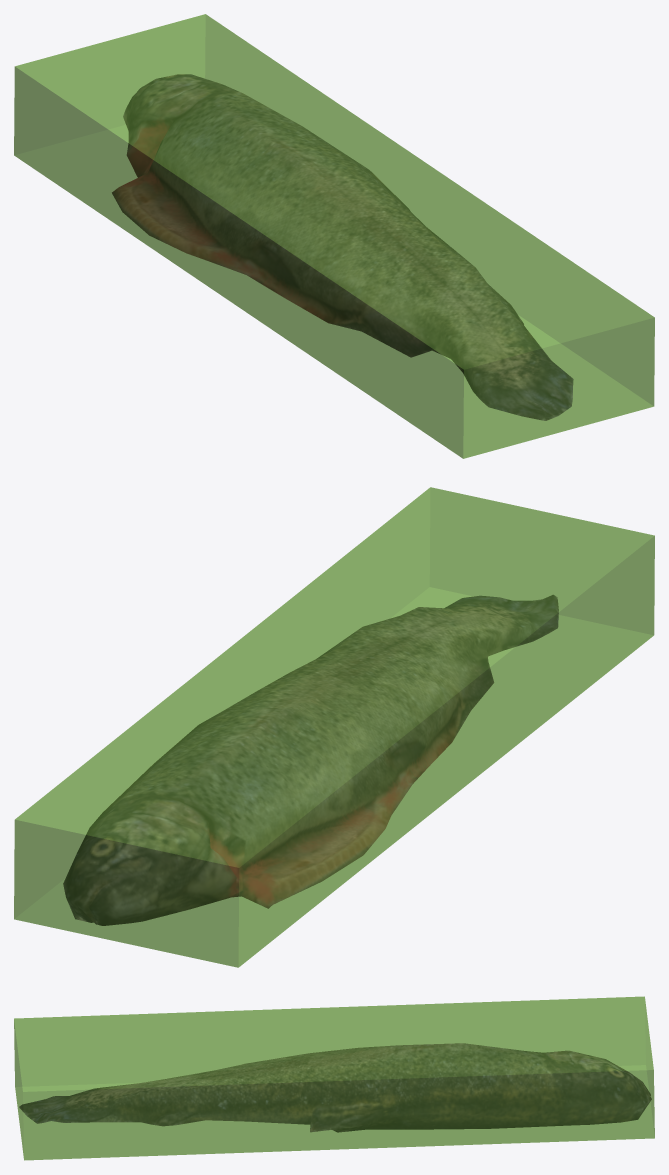
Rendered from pg_Trout_02.fbx.
The picture shows the model from 3 angles, top to bottom: view 1: azimuth 30°, elevation 25°; view 2: azimuth 150°, elevation 25°; view 3: azimuth 270°, elevation 25°; orthographic projection. The views are drawn at different scales.
Visible parts, largest first — view 1: pg_Trout_02_a_col, pg_Trout_02_a_LOD0; view 2: pg_Trout_02_a_col, pg_Trout_02_a_LOD0; view 3: pg_Trout_02_a_col, pg_Trout_02_a_LOD0.
Boxes of the visible parts, x1,y1,x2,y2 form: pg_Trout_02_a_col: [14, 14, 654, 458]; pg_Trout_02_a_LOD0: [112, 74, 573, 420]; pg_Trout_02_a_col: [14, 487, 654, 967]; pg_Trout_02_a_LOD0: [63, 595, 558, 925]; pg_Trout_02_a_col: [14, 996, 654, 1160]; pg_Trout_02_a_LOD0: [19, 1043, 651, 1132].
Size of what is drawn, in the model's own units: 15.56 by 6.37 by 48.26.
